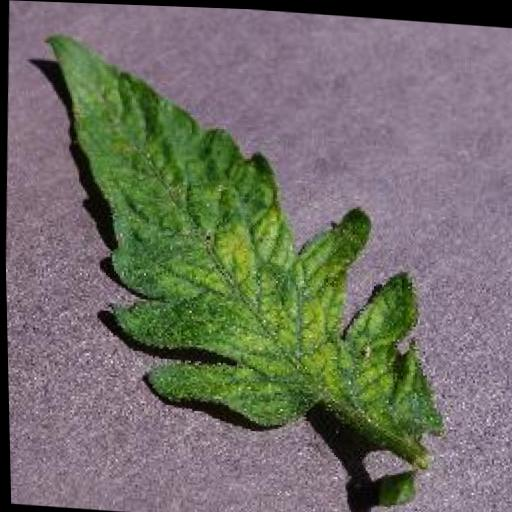Mosaic Virus: (23, 29, 459, 462)
